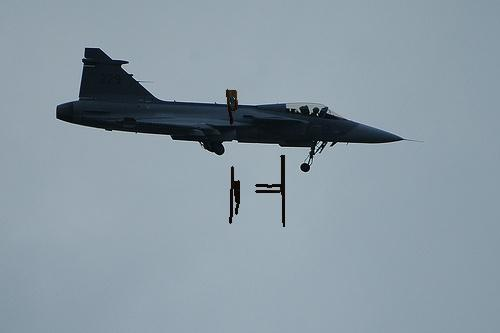tampered: (227, 90, 285, 227)
